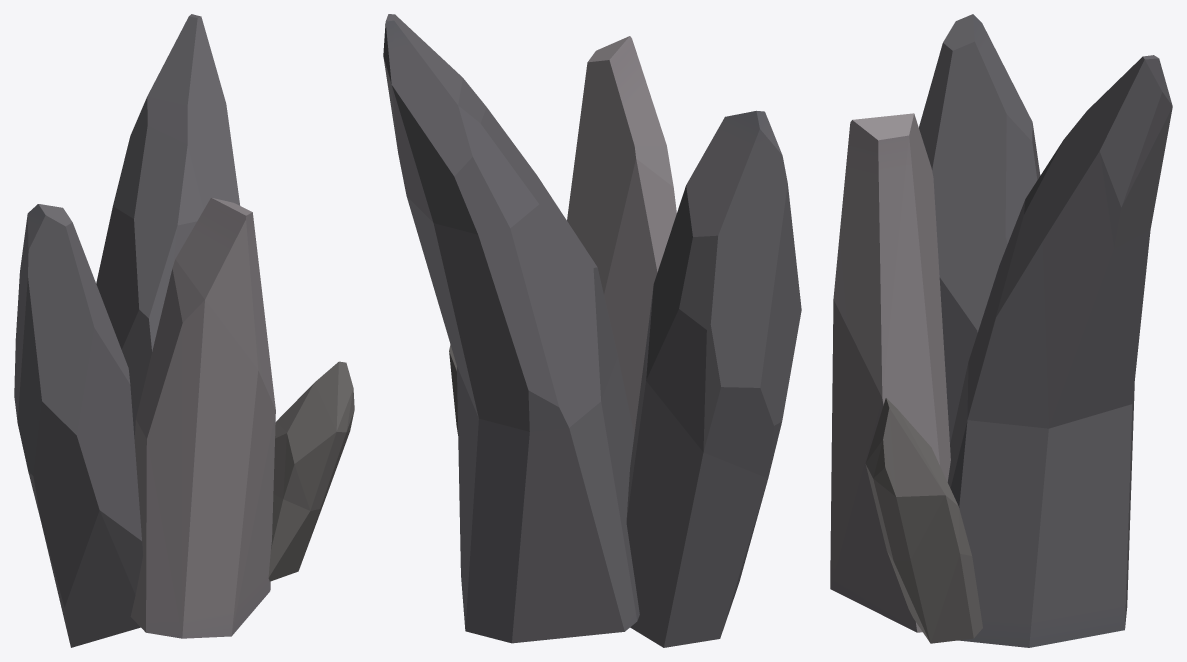
File: Rocks_Sharp_l_03.fbx
The picture shows the model from 3 angles, left to right: view 1: azimuth 30°, elevation 25°; view 2: azimuth 150°, elevation 25°; view 3: azimuth 270°, elevation 25°; orthographic projection. The views are drawn at different scales.
Visible parts, largest first — view 1: Rocks_Sharp_l_03; view 2: Rocks_Sharp_l_03; view 3: Rocks_Sharp_l_03.
Part boxes in pixels (left/top/right/bottom): Rocks_Sharp_l_03: left=14, top=14, right=354, bottom=647; Rocks_Sharp_l_03: left=383, top=14, right=801, bottom=647; Rocks_Sharp_l_03: left=830, top=14, right=1172, bottom=647.
Size of the model in its own units: 306 by 519 by 258.
